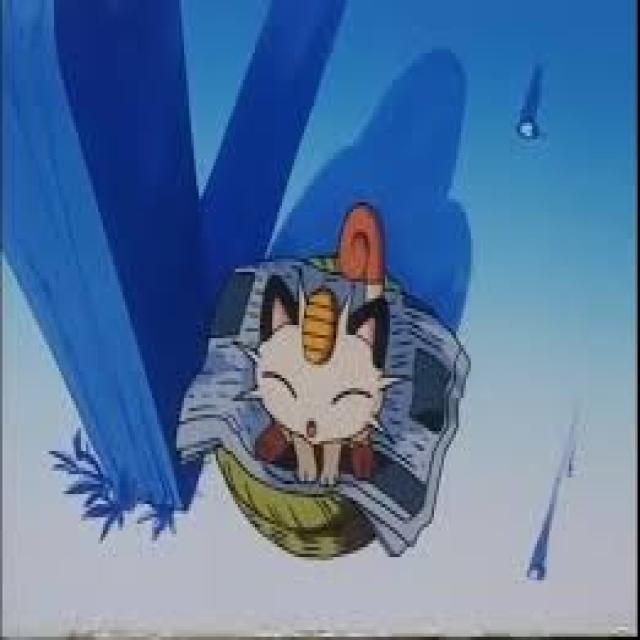Meowth: (259, 272, 387, 487)
